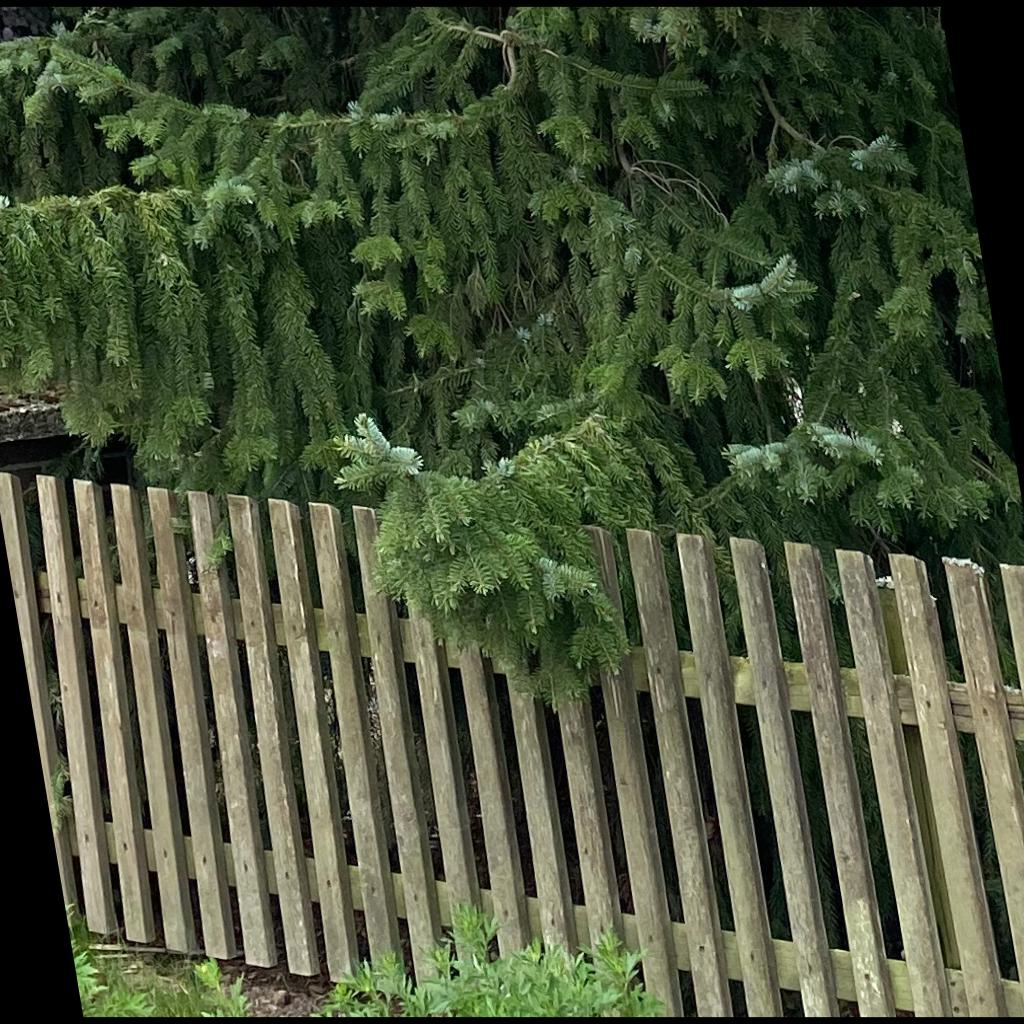tree: (1, 6, 1023, 712)
